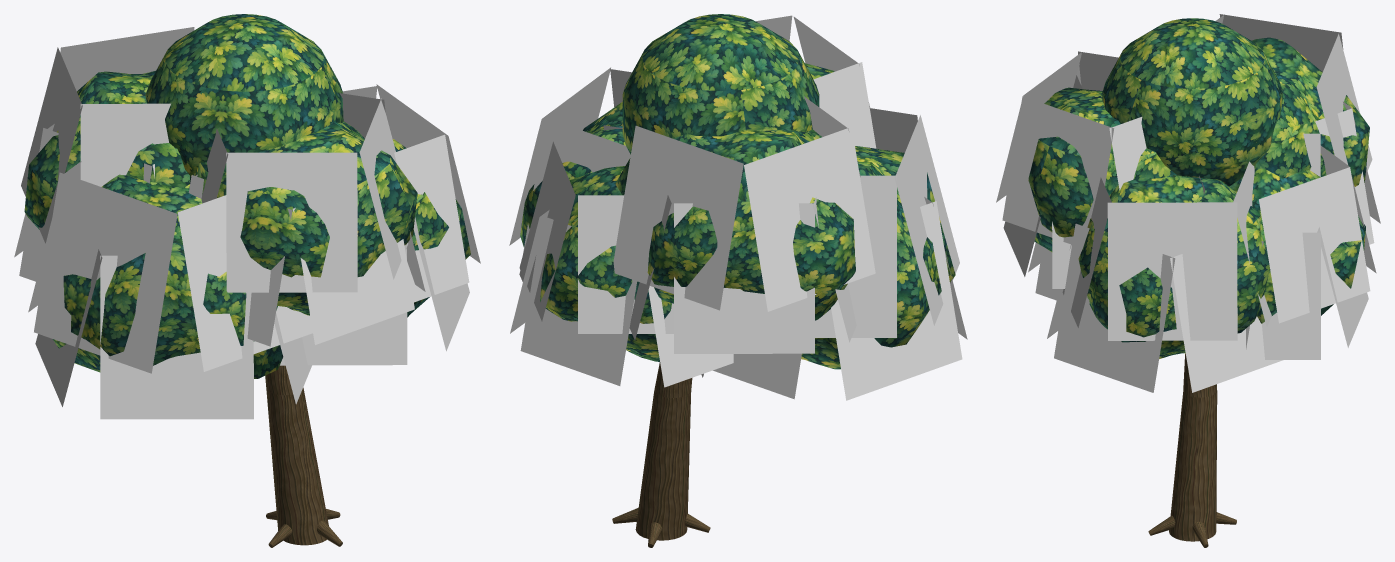
Rendered from NaturalTree_04.fbx.
The picture shows the model from 3 angles, left to right: view 1: azimuth 30°, elevation 25°; view 2: azimuth 150°, elevation 25°; view 3: azimuth 270°, elevation 25°; orthographic projection. The views are drawn at different scales.
Parts seen in each view (by area): view 1: NaturalTree_04.001; view 2: NaturalTree_04.001; view 3: NaturalTree_04.001.
Part boxes in pixels (x1=…): NaturalTree_04.001: x1=14, y1=14, x2=480, y2=547; NaturalTree_04.001: x1=509, y1=14, x2=967, y2=547; NaturalTree_04.001: x1=996, y1=14, x2=1380, y2=547.
Size of the model in its own units: 591 by 712 by 520.
Materials: 3 (2 with a texture image).
